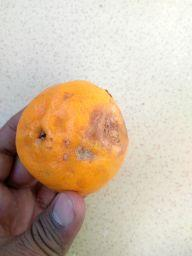Unripe: (16, 77, 127, 196)
